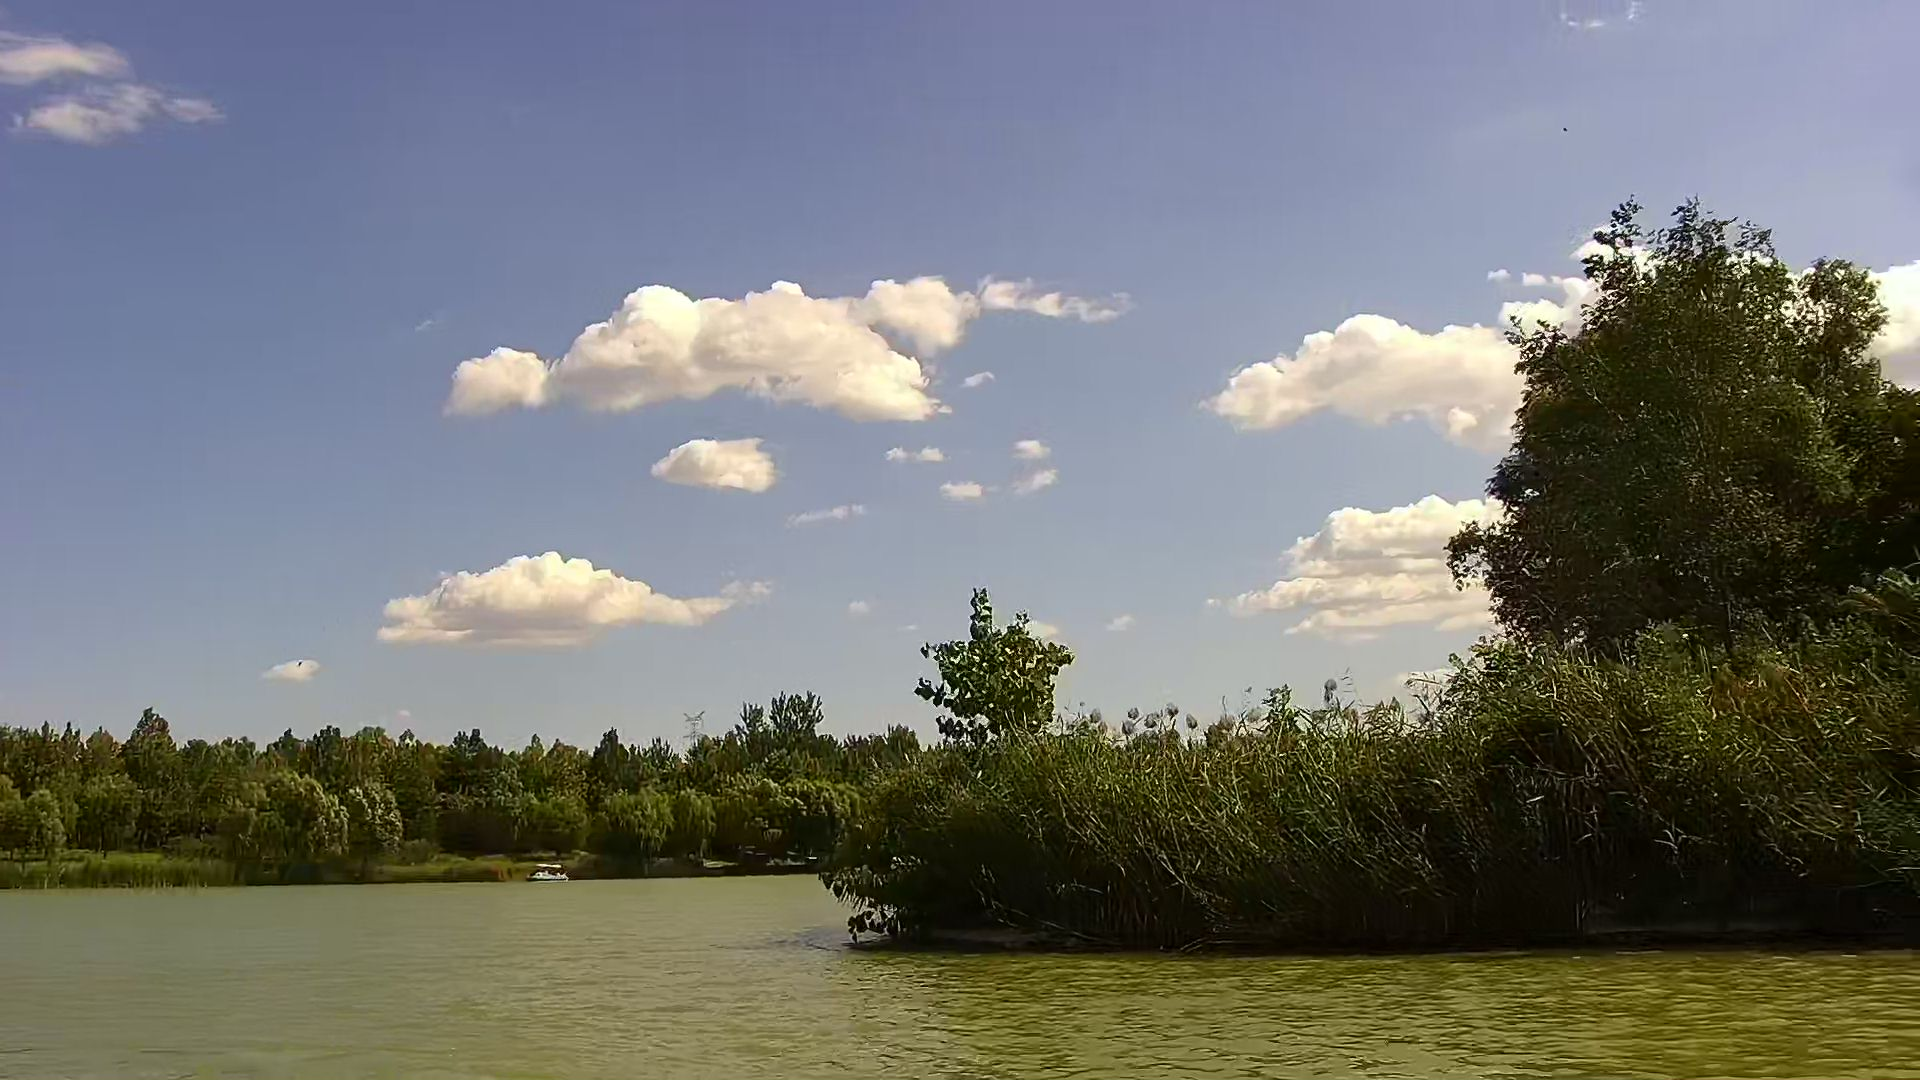boat: (524, 856, 570, 885)
